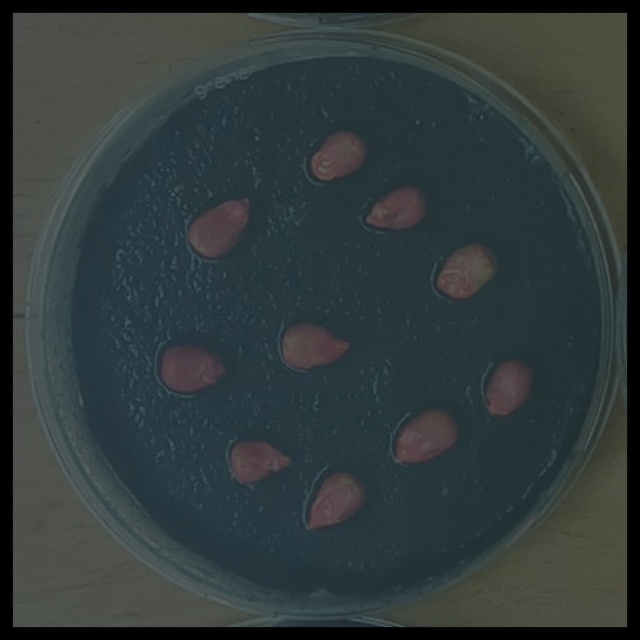Zea mays: (180, 185, 259, 265), (386, 399, 466, 473), (297, 464, 373, 540), (150, 333, 234, 399), (428, 235, 506, 306), (275, 313, 359, 374), (301, 121, 374, 189), (357, 176, 435, 237), (477, 349, 542, 421), (224, 430, 298, 489)
